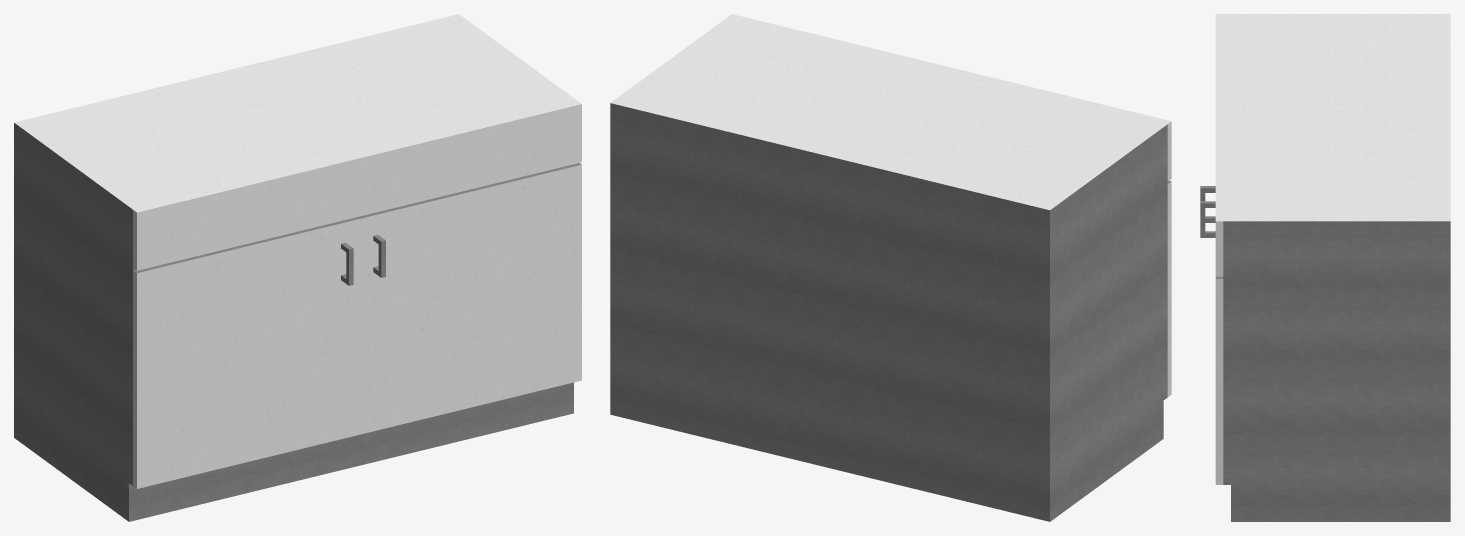
The model's file is Cupb_sing.fbx.
3 renders of one model, left to right at view 1: azimuth 30°, elevation 25°; view 2: azimuth 150°, elevation 25°; view 3: azimuth 270°, elevation 25°, orthographic. The views are drawn at different scales.
Visible parts, largest first — view 1: Model; view 2: Model; view 3: Model.
Boxes of the visible parts, x1,y1,x2,y2 form: Model: (14, 14, 581, 521); Model: (610, 14, 1171, 521); Model: (1200, 14, 1450, 521).
Bounding box in the file's own units: 122 × 82.55 × 62.23.
